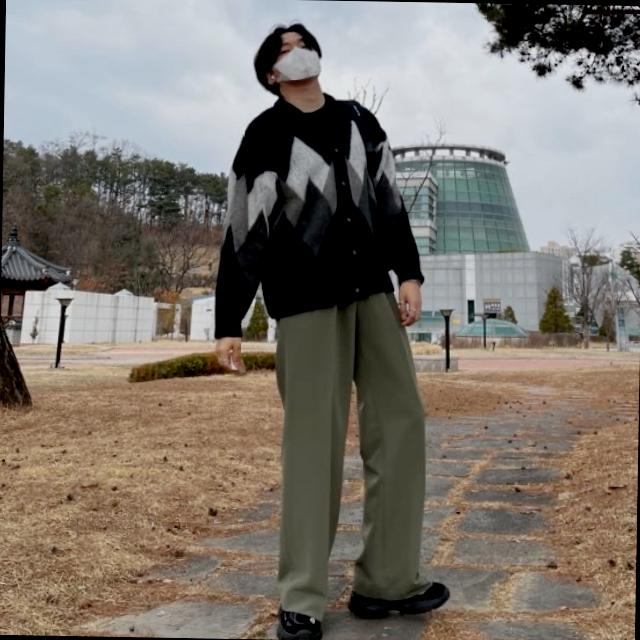cardigan: (212, 94, 424, 345)
slacks: (260, 278, 442, 614)
